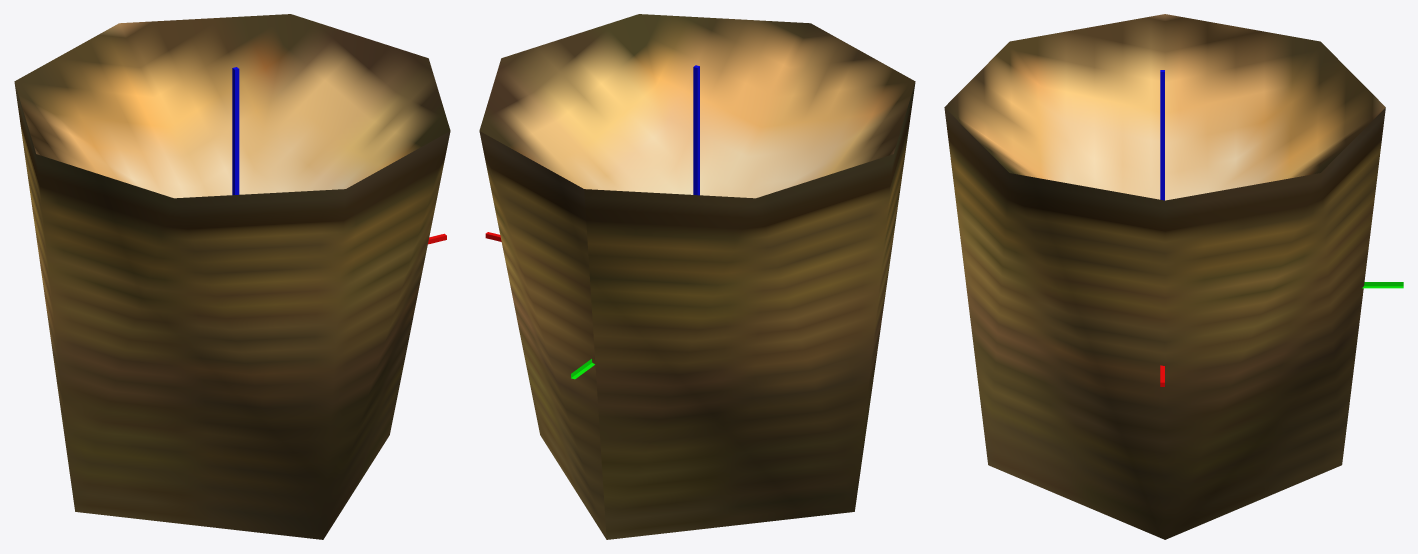
File: attachments-a-basket.glb
3 renders of one model, left to right at view 1: azimuth 30°, elevation 25°; view 2: azimuth 150°, elevation 25°; view 3: azimuth 270°, elevation 25°, orthographic. The views are drawn at different scales.
Visible parts, largest first — view 1: attachments a basketModel, Dummy_hotspot; view 2: attachments a basketModel, Dummy_hotspot; view 3: attachments a basketModel, Dummy_hotspot.
Part boxes in pixels (x1,y1,x2,y2): attachments a basketModel: (14, 14, 450, 539); Dummy_hotspot: (232, 67, 446, 244); attachments a basketModel: (479, 14, 915, 539); Dummy_hotspot: (485, 65, 699, 379); attachments a basketModel: (944, 14, 1385, 539); Dummy_hotspot: (1160, 70, 1403, 386).
Bounding box in the file's own units: 0.4814 × 0.457 × 0.4814.
Materials: 2 (1 with a texture image).
